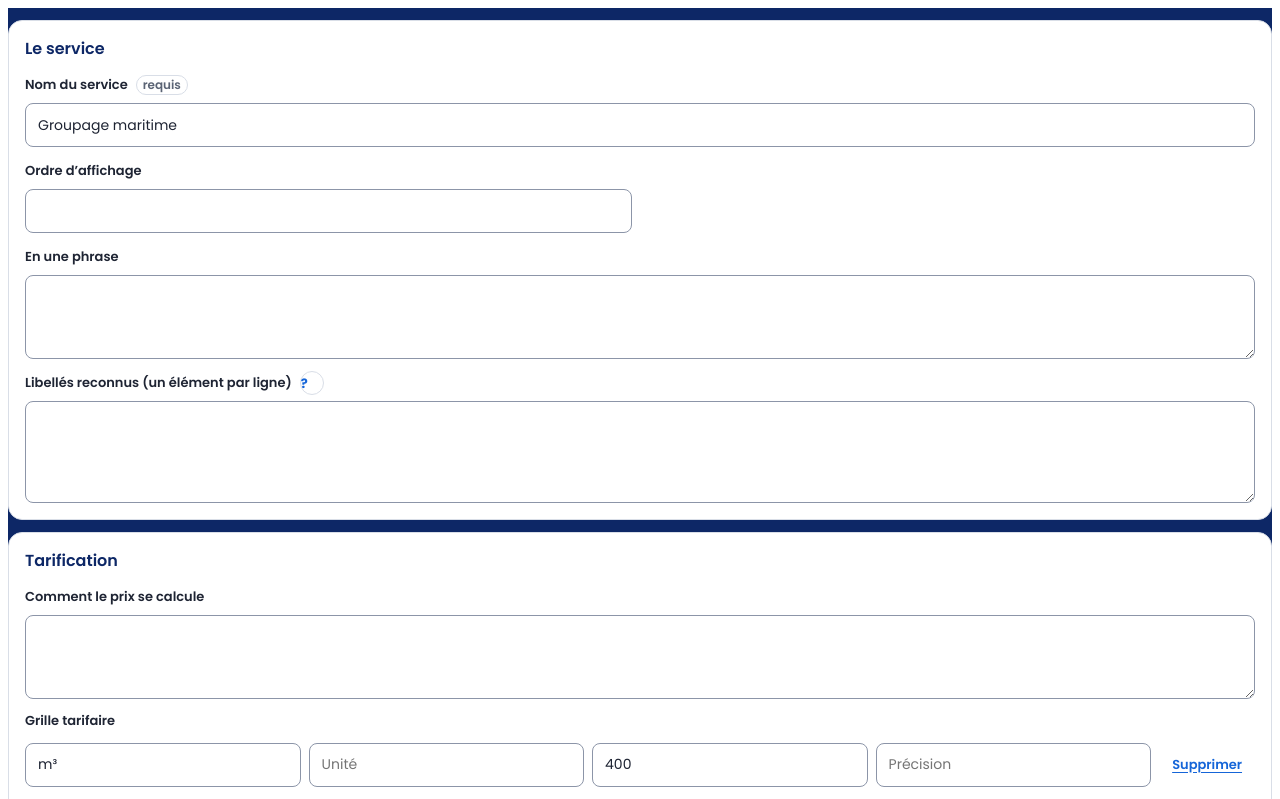
Test case: EditeurFiche › sur un conflit, recharge la fiche, prévient et rejoue l’écriture
In the text box labelled "En une phrase": (640, 317) [25,275,1255,359], type "Après conflit"
Wait 900 ms
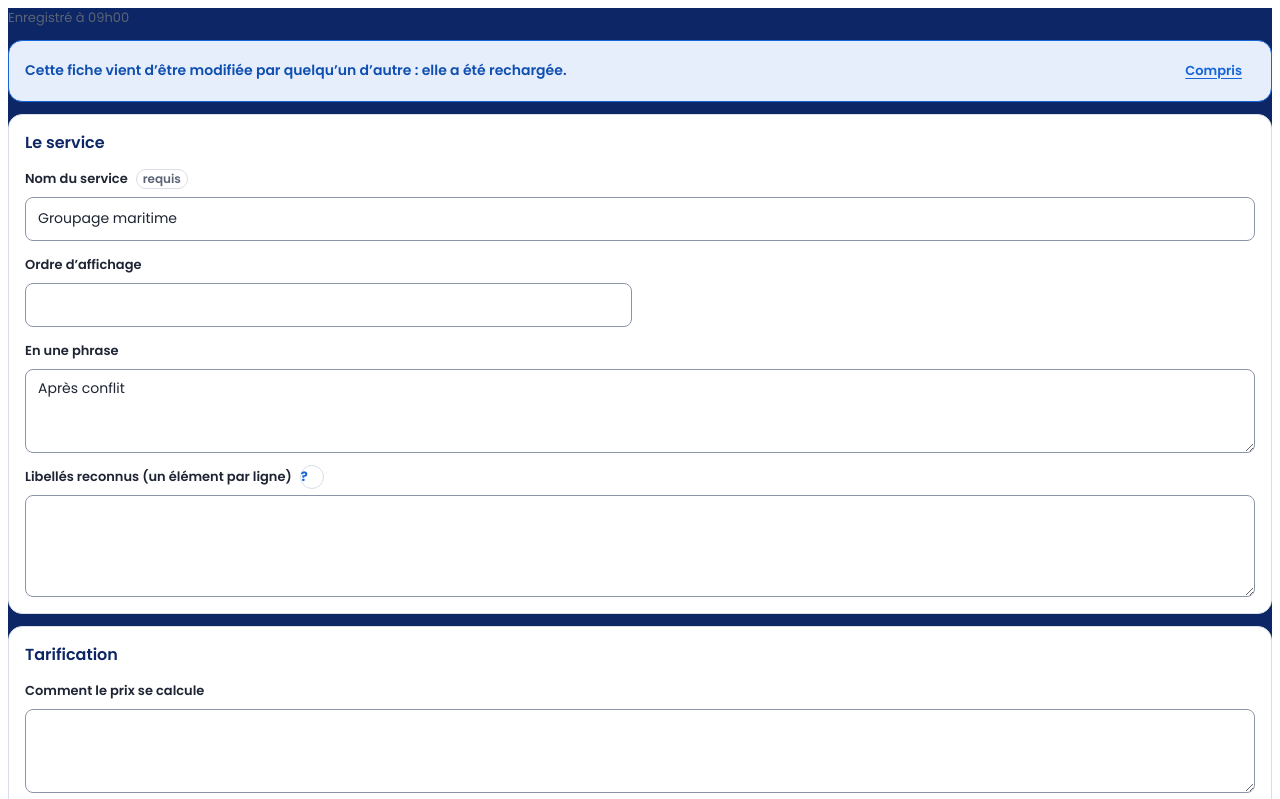
Expected: the text "vient d’être modifiée par quelqu’un d’autre" is shown, [25,60,566,80]
